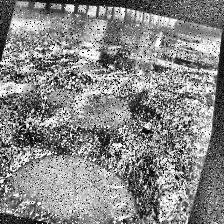pothole: (0, 136, 156, 224), (40, 76, 148, 142), (0, 70, 44, 119)
